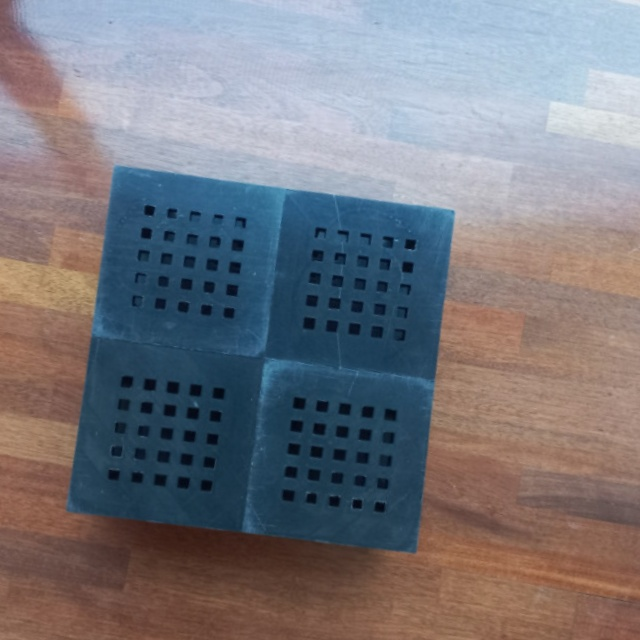pallet: (54, 142, 461, 567)
